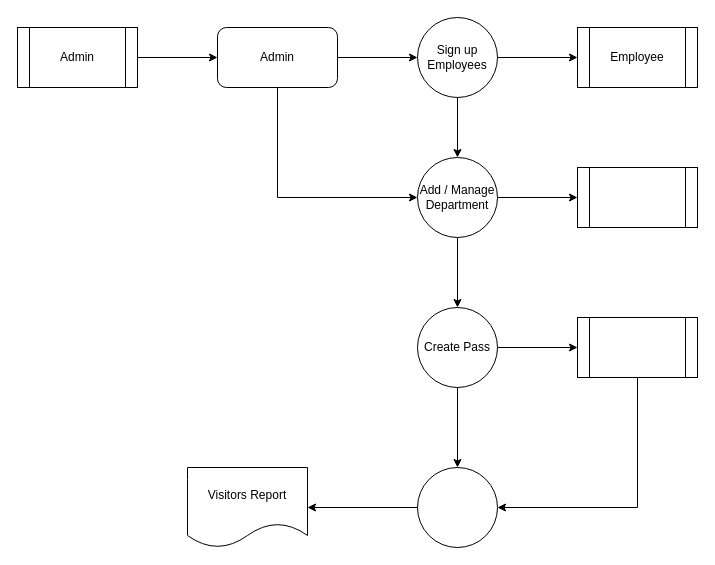
Image size: 715x565. Some labels were removed from this diagram. The shapes that lost their labels are listed below. From the top down, each one's centre as x and y in pixels, then its label:
[637,197]: Department
[637,347]: Pass
[457,507]: Check out
